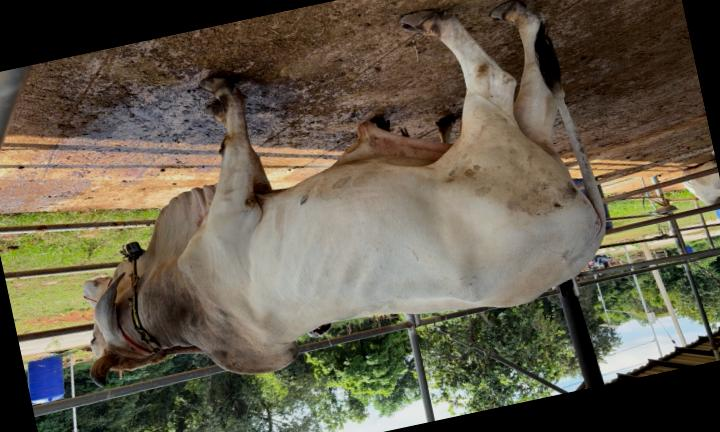Brahman: (91, 1, 605, 387)
